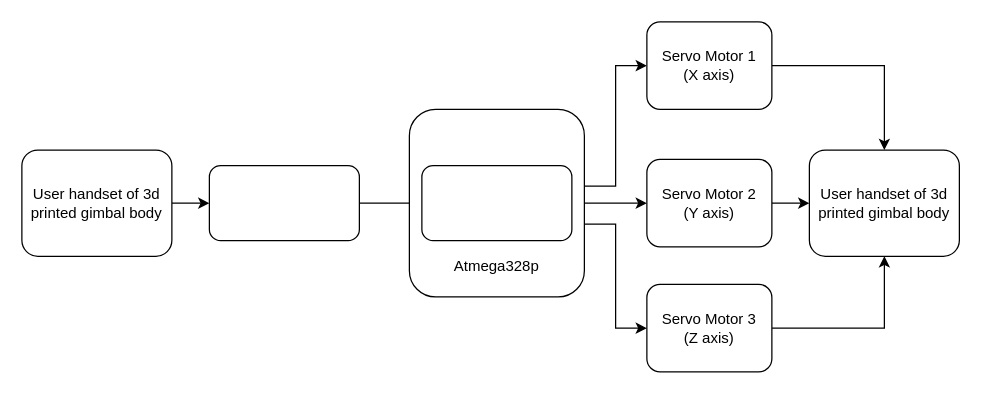
Image size: 981x394. Some labels were removed from this diagram. Each missing label, with the centre of its shape:
"MPU6050 Gyroscope" belongs at (283,202).
"PID Algorithm" belongs at (496,202).
